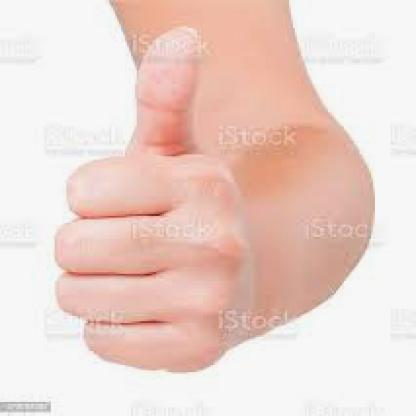Thumbs up: (63, 32, 277, 373)
